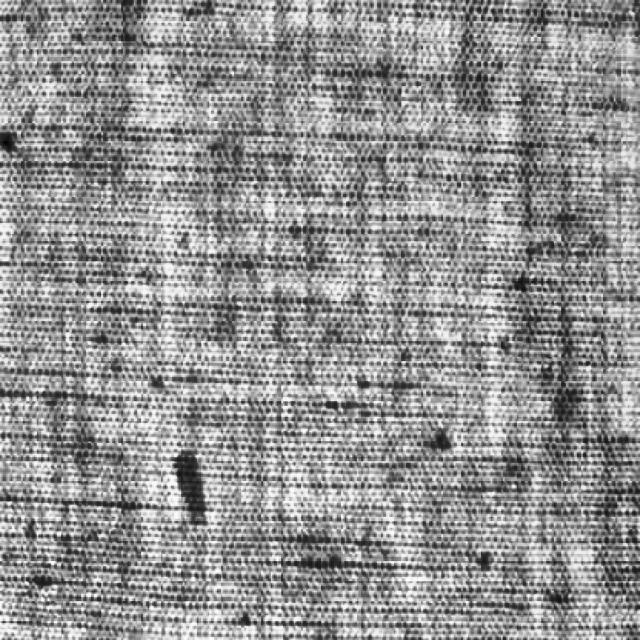oil_spot: (158, 436, 214, 542)
